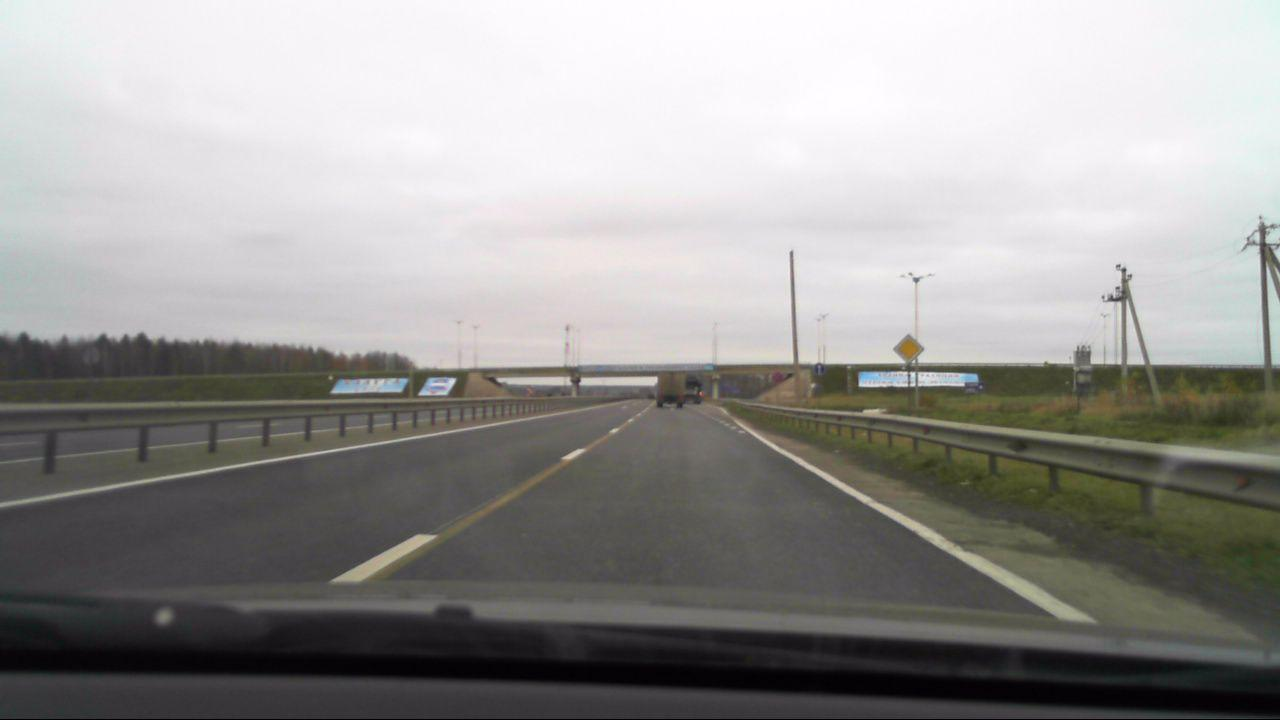2_1: (893, 334, 924, 366)
